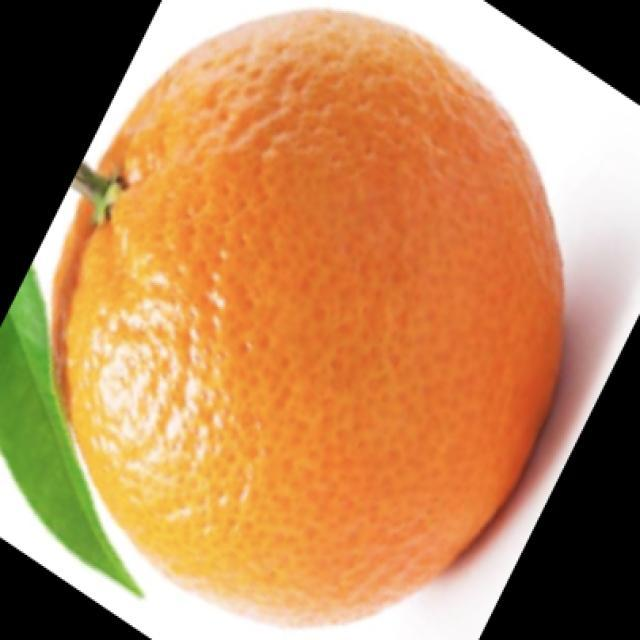Orange: (50, 6, 566, 628)
